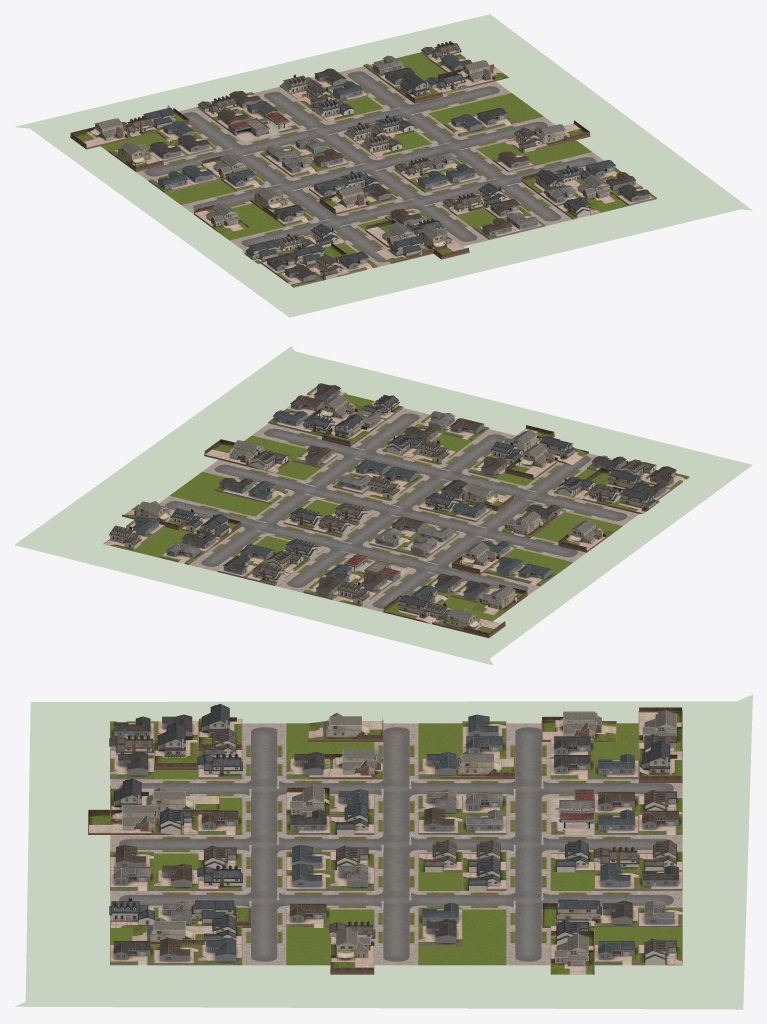
Rendered from low_poly_city_v2.glb.
3 views of the same model, one above another, from view 1: azimuth 30°, elevation 25°; view 2: azimuth 150°, elevation 25°; view 3: azimuth 270°, elevation 25° (orthographic). The views are drawn at different scales.
Parts seen in each view (by area): view 1: Object_6; view 2: Object_6; view 3: Object_6.
Part boxes in pixels (bbox=[...]): Object_6: bbox=[15, 14, 752, 317]; Object_6: bbox=[14, 346, 752, 665]; Object_6: bbox=[15, 694, 752, 1009].
Bounding box in the file's own units: 16.93 × 0.4804 × 16.78.
1 material, 1 textured.
